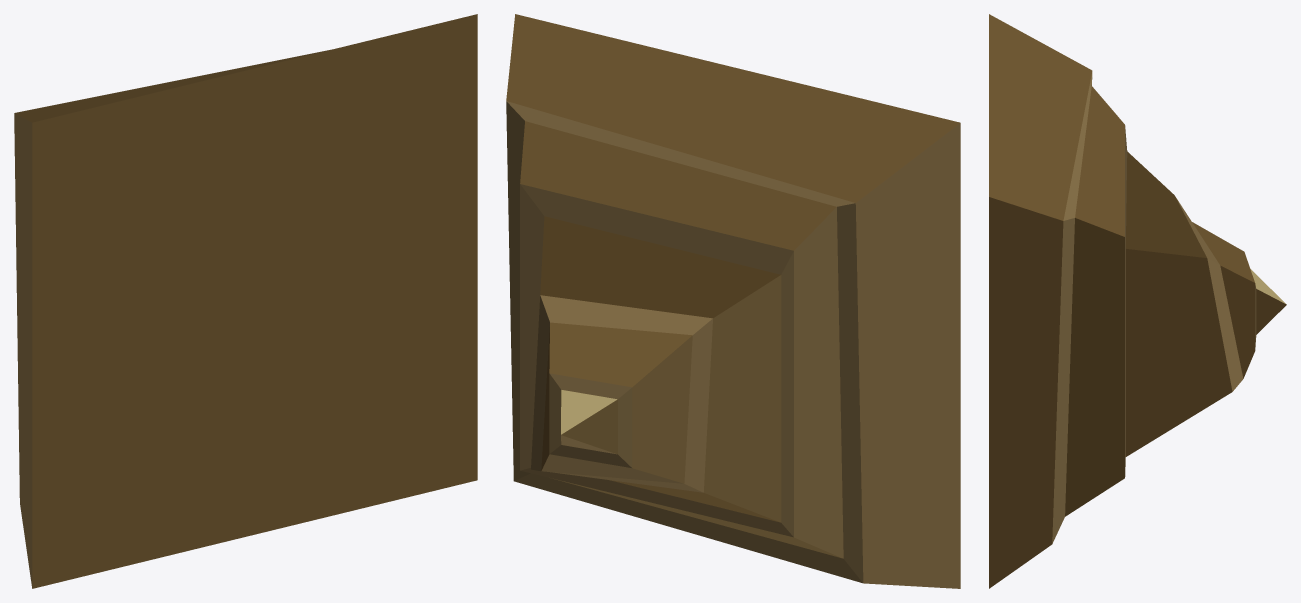
File: desert_pyramid_2.fbx
The picture shows the model from 3 angles, left to right: view 1: azimuth 30°, elevation 25°; view 2: azimuth 150°, elevation 25°; view 3: azimuth 270°, elevation 25°; orthographic projection. The views are drawn at different scales.
Parts seen in each view (by area): view 1: desert_pyramid_2; view 2: desert_pyramid_2; view 3: desert_pyramid_2.
Part boxes in pixels (<box>): desert_pyramid_2: <box>14,14,477,588</box>; desert_pyramid_2: <box>506,14,960,588</box>; desert_pyramid_2: <box>989,14,1286,588</box>.
Size of the model in its own units: 465 by 465 by 320.
